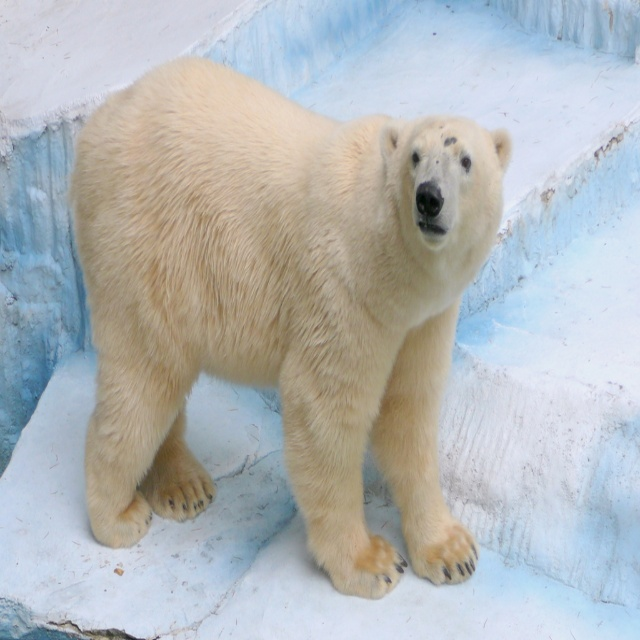Polar bear: (66, 54, 514, 601)
